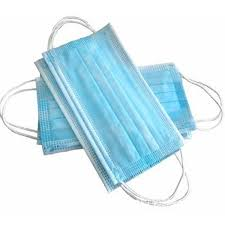mask: (47, 35, 167, 177)
